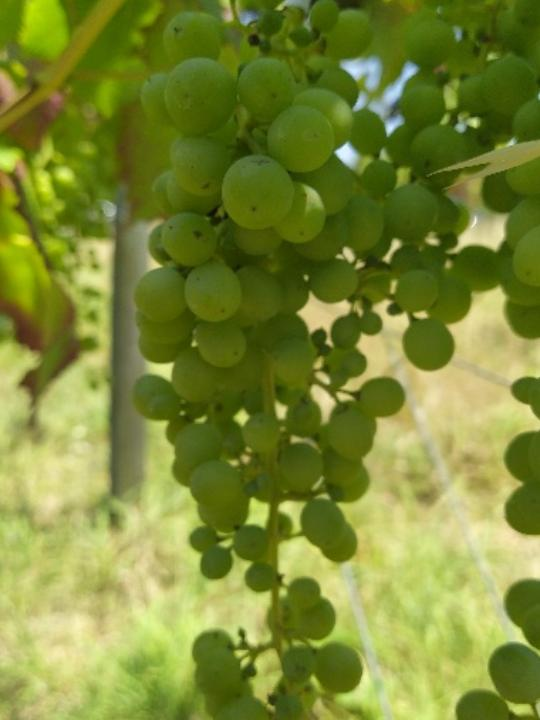grape: (128, 0, 504, 720)
